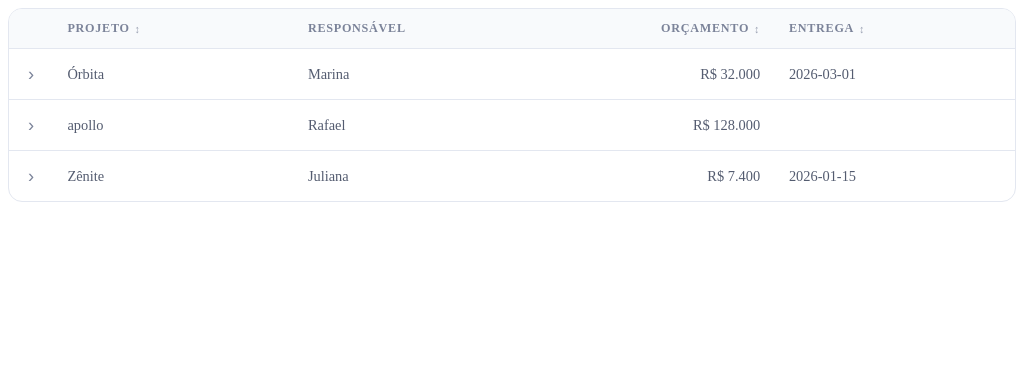
Test case: BdTableComponent › linhas expansíveis › mantém várias linhas abertas ao mesmo tempo
The width and height of the screenshot is (1024, 377).
Click the button with class "bd-table__expand" next to "Órbita". click: (31, 74)
box: [19,61,43,87]
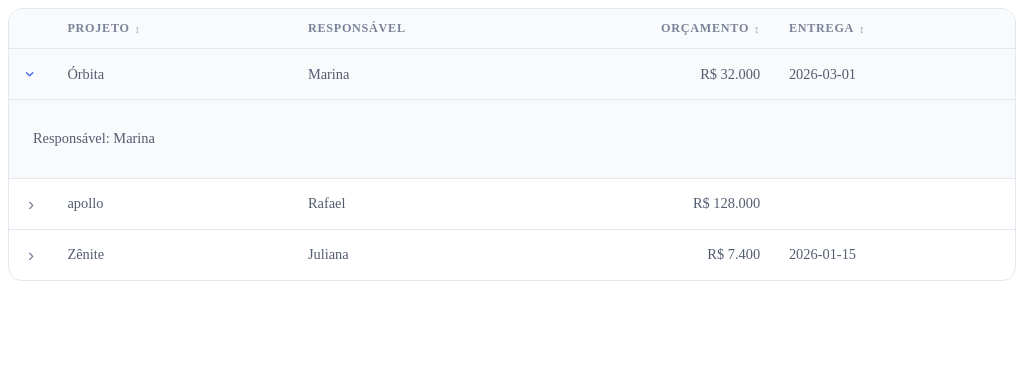
Click the button with class "bd-table__expand" next to "apollo". click: (31, 204)
box: [19,191,43,217]
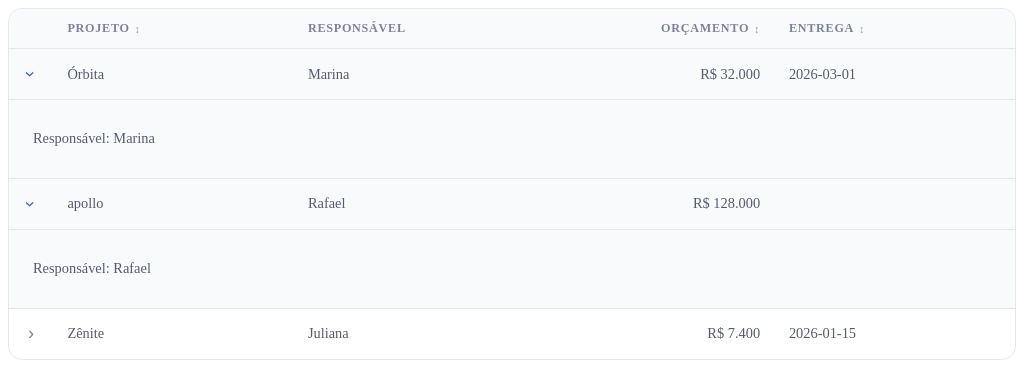
Now the number of rows with class "bd-table__detail" is 2, box [9,99,1015,178]; [9,229,1015,308]
